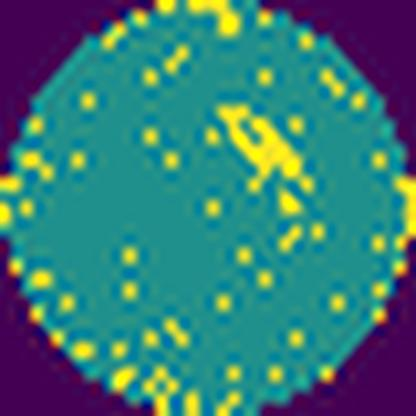Loc: (217, 103, 311, 192)
